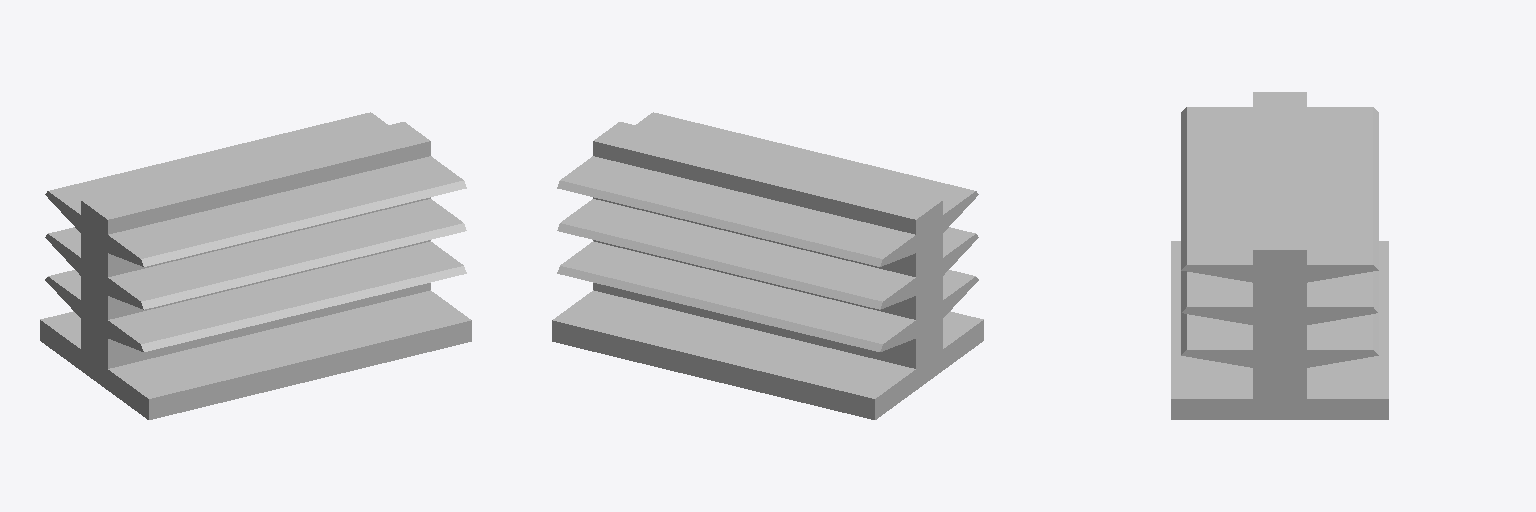
File: Shelf.obj
3 views of the same model, side by side, from view 1: azimuth 30°, elevation 25°; view 2: azimuth 150°, elevation 25°; view 3: azimuth 270°, elevation 25° (orthographic).
Visible parts, largest first — view 1: pCube3; view 2: pCube3; view 3: pCube3.
Part boxes in pixels (x1,y1,x2,y2): pCube3: (40,112,471,419); pCube3: (552,112,983,419); pCube3: (1171,92,1388,419).
Bounding box in the file's own units: 13.7 × 6.91 × 7.99.